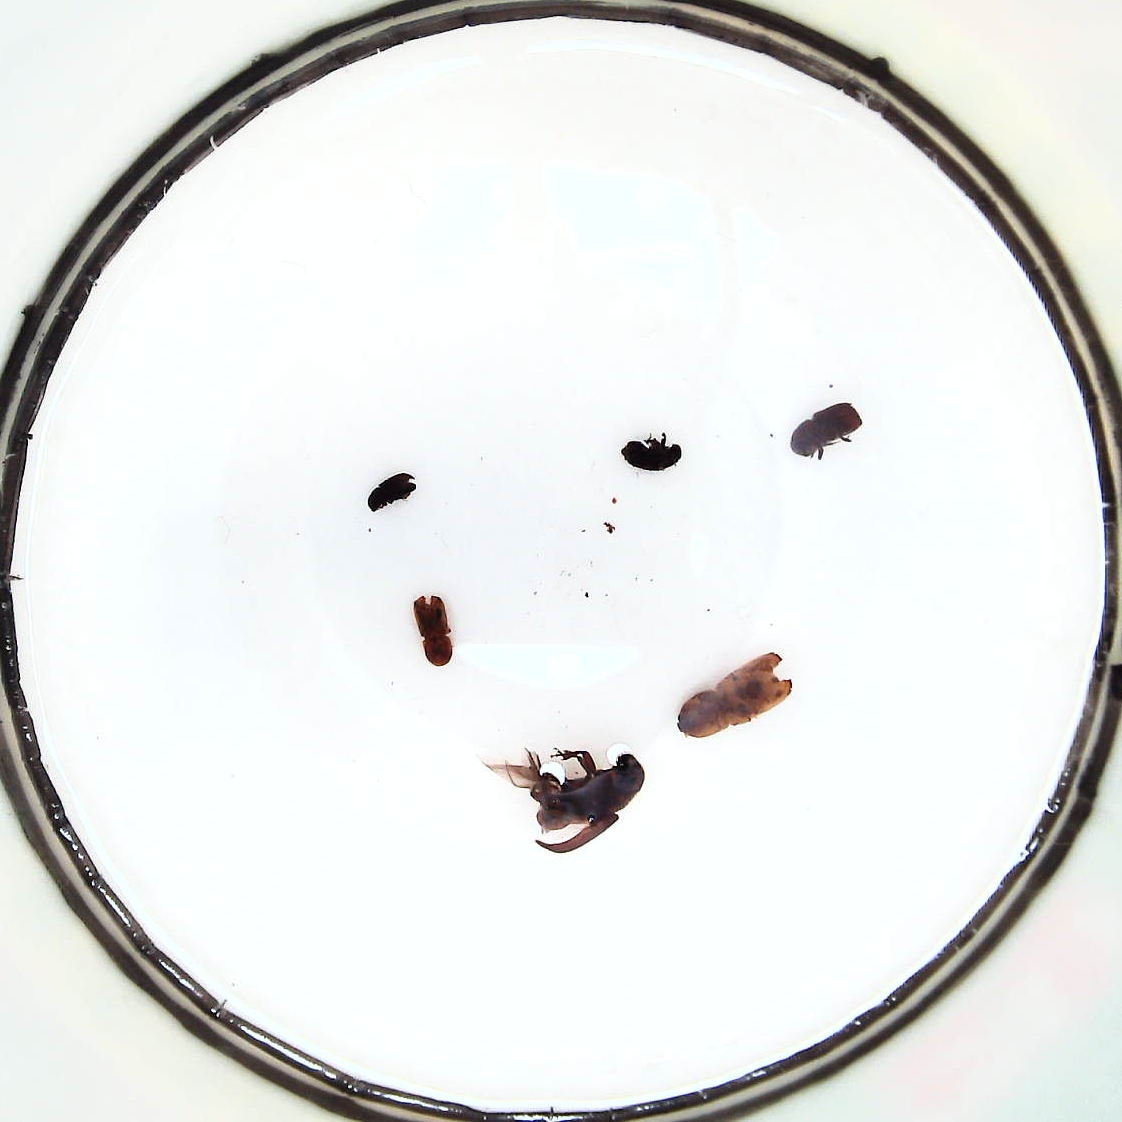Boerner: (677, 652, 792, 738)
Leconte: (530, 752, 644, 853)
acuminatus: (621, 439, 681, 470)
armandi: (415, 596, 452, 666)
coleoptera: (367, 473, 416, 511)
linnaeus: (791, 403, 863, 457)
